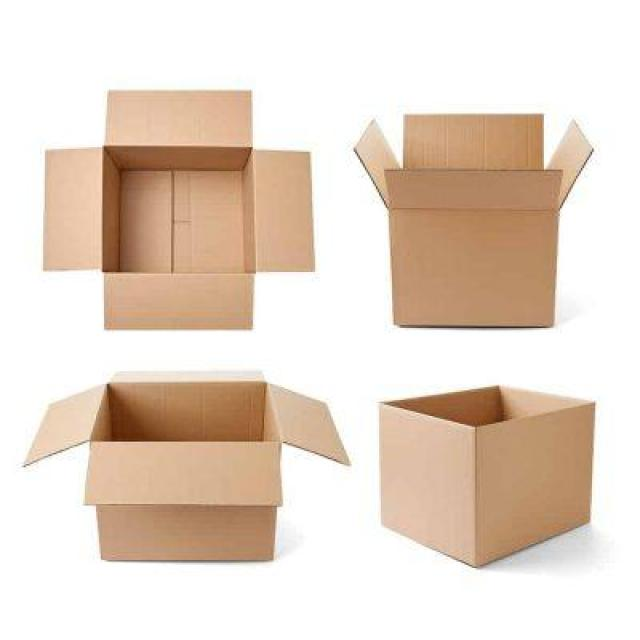cardboard: (37, 87, 318, 330), (21, 371, 347, 564), (351, 113, 593, 331), (376, 381, 596, 571)
